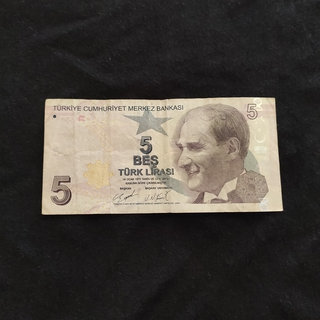5TLFront: (42, 96, 284, 215)
